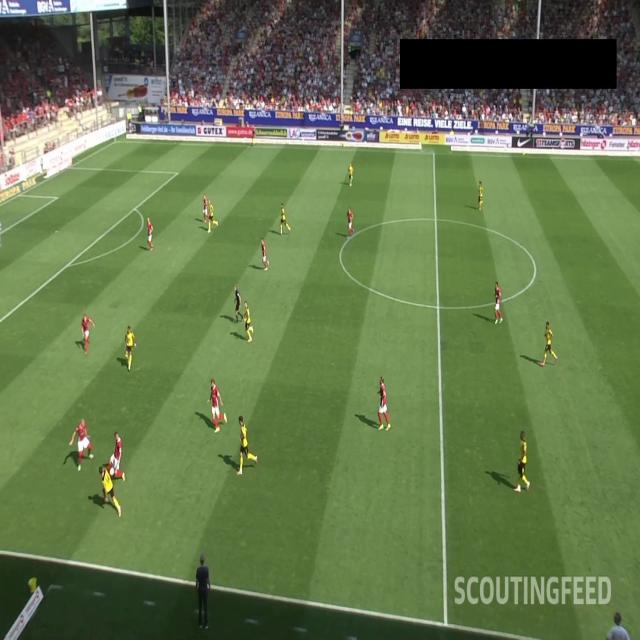ball: (108, 464, 115, 479)
player: (235, 412, 260, 477), (68, 416, 95, 473), (98, 461, 122, 523), (205, 374, 229, 435), (514, 427, 532, 495), (108, 428, 128, 484), (375, 376, 392, 435), (540, 317, 559, 368), (120, 320, 138, 372), (78, 308, 96, 357), (241, 299, 255, 344), (492, 280, 505, 324), (258, 232, 270, 274), (278, 200, 292, 235), (205, 200, 218, 234), (145, 213, 155, 251), (476, 177, 486, 212), (346, 207, 355, 241), (202, 192, 210, 226), (346, 161, 355, 187)
referee: (230, 284, 243, 326), (249, 121, 257, 151)
